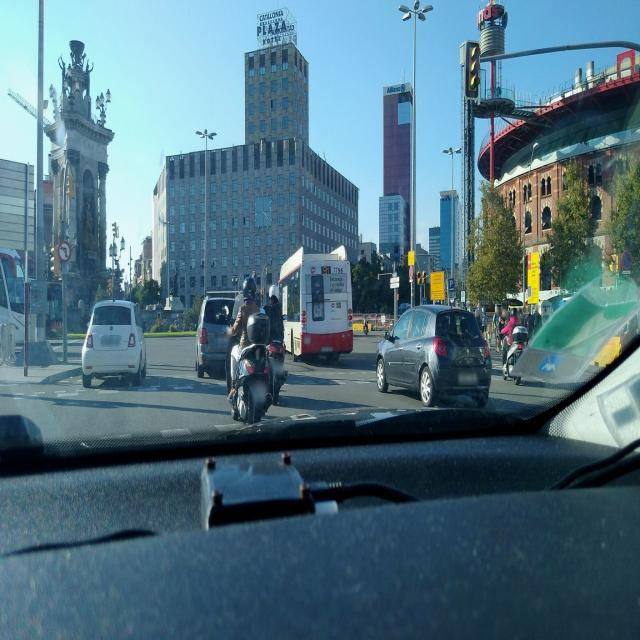bike: (222, 313, 274, 425), (500, 327, 527, 386)
car: (499, 275, 640, 392), (376, 302, 491, 406), (82, 298, 147, 388), (195, 288, 240, 379)
